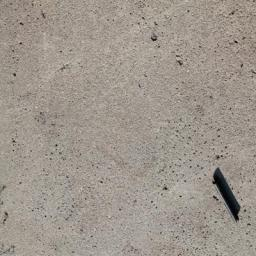FOD: (206, 166, 249, 230)
